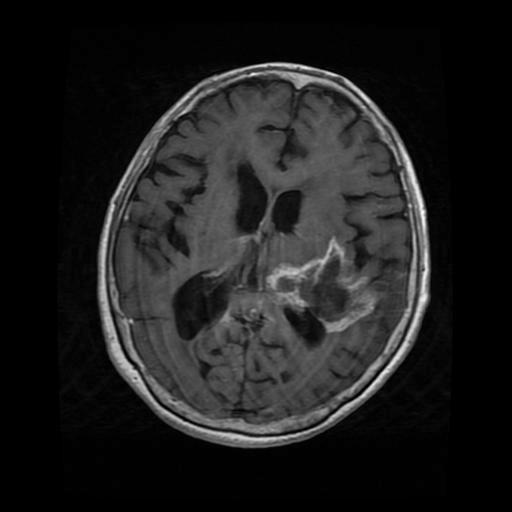Tumour-Glioma: (270, 243, 376, 332)
